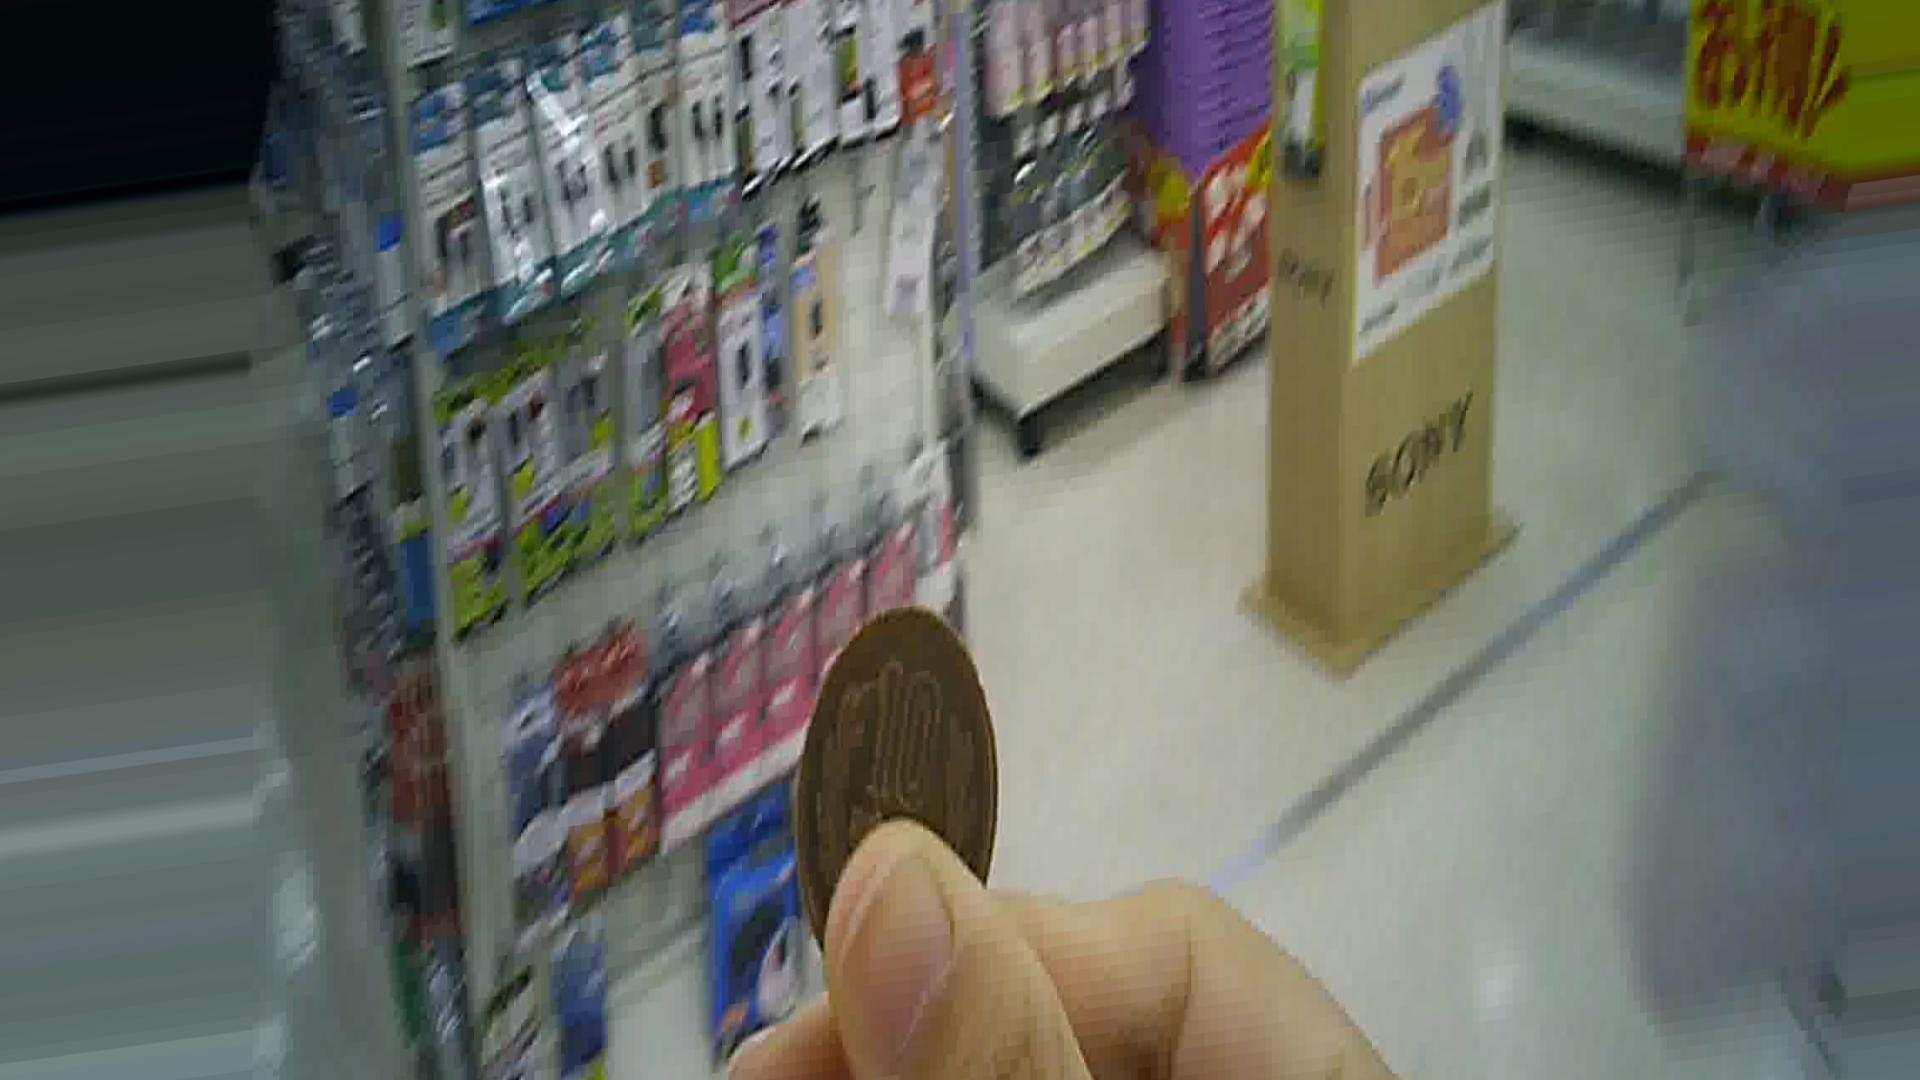10 Yen: (771, 597, 1010, 928)
